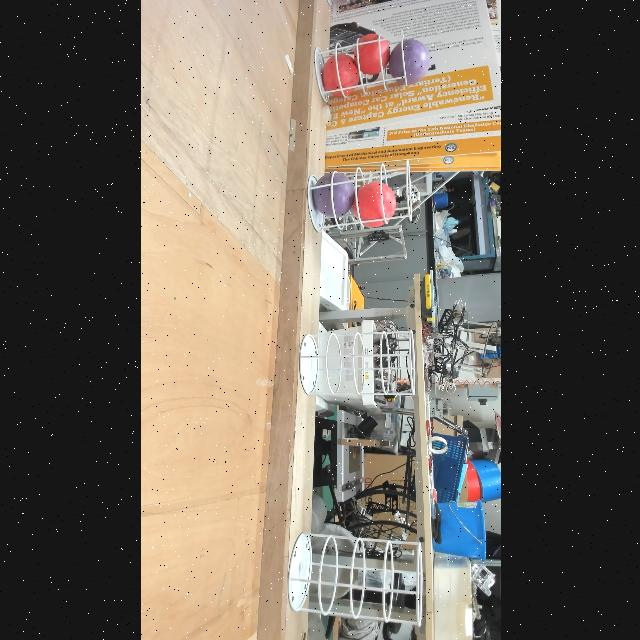P: (310, 172, 354, 218), (387, 38, 429, 86)
R: (351, 181, 395, 229), (320, 53, 360, 97), (352, 33, 390, 76)
S: (286, 532, 422, 628), (296, 328, 416, 398), (305, 158, 413, 234), (312, 27, 410, 105)
